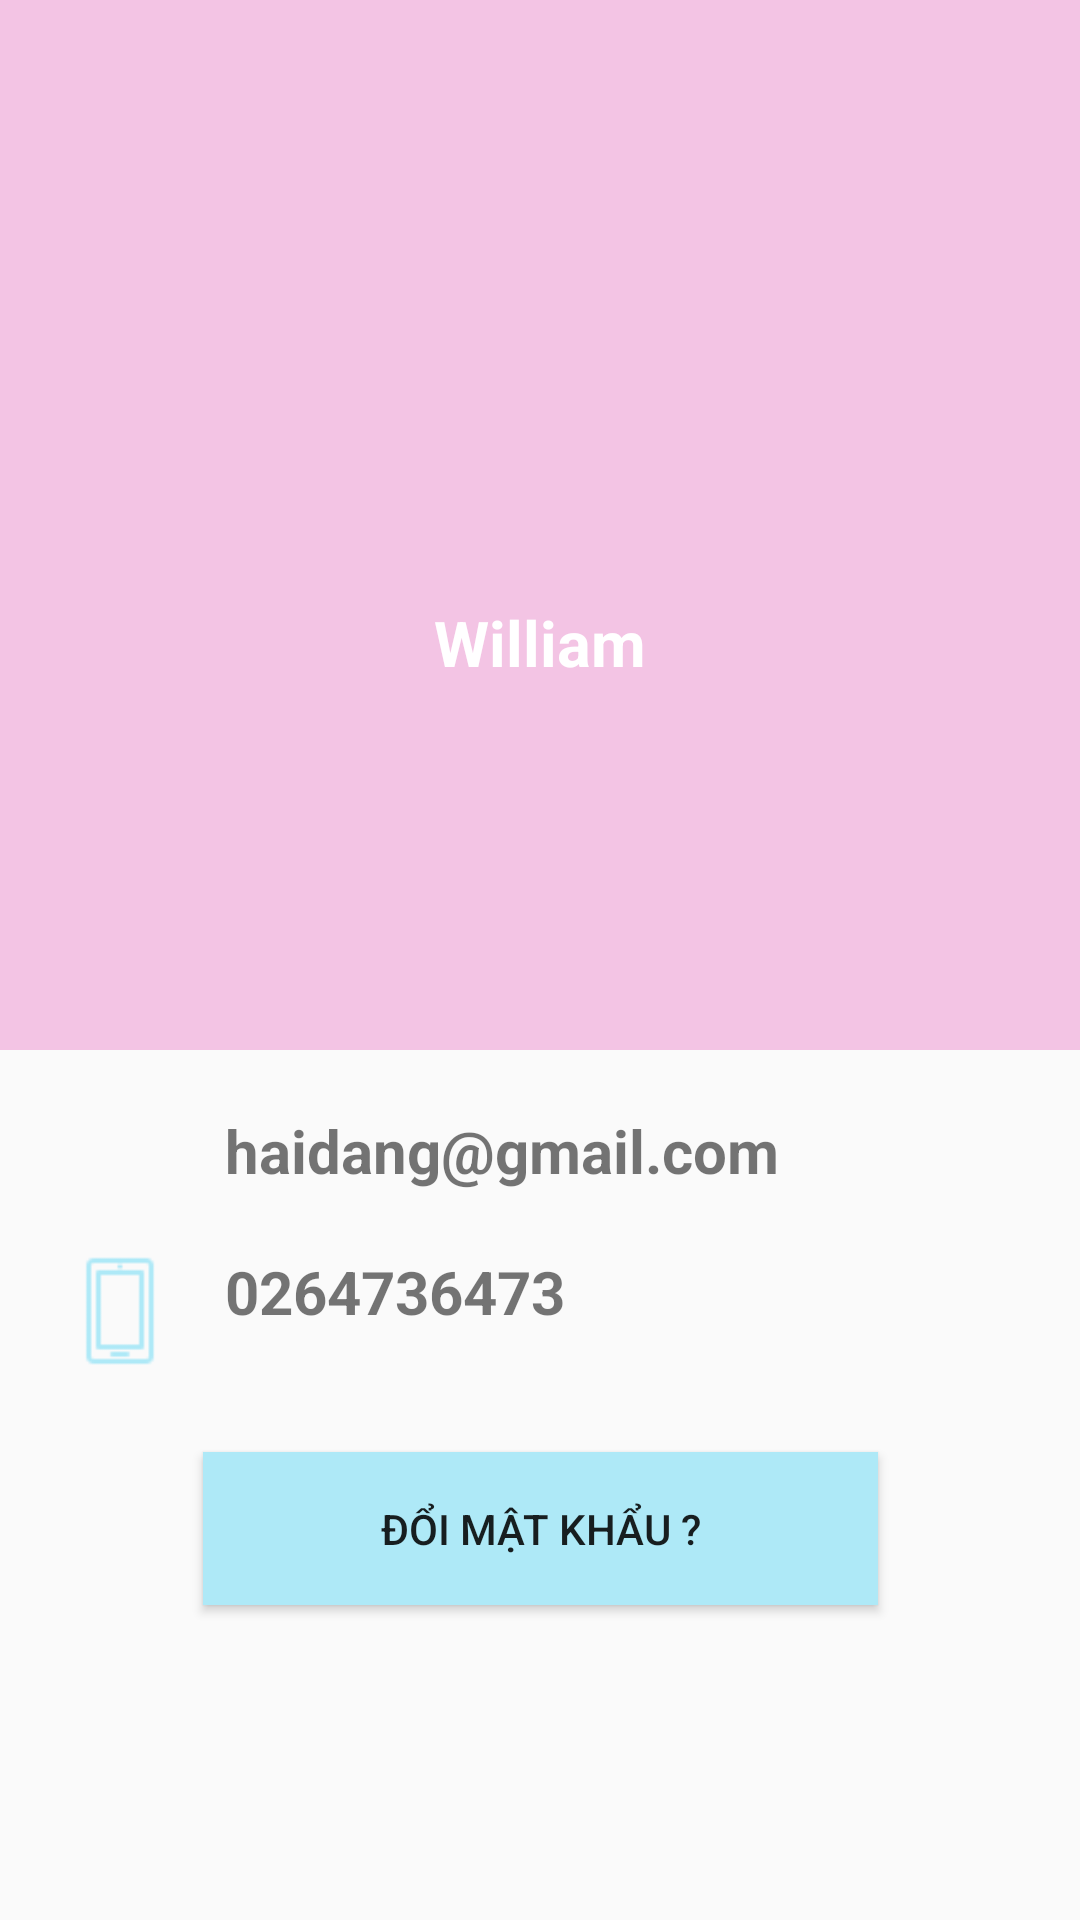

Where icons sit on this 1080 x 1920 app screen, as (x1, y1, x2, y2):
smartphone: (86, 1258, 154, 1364)
